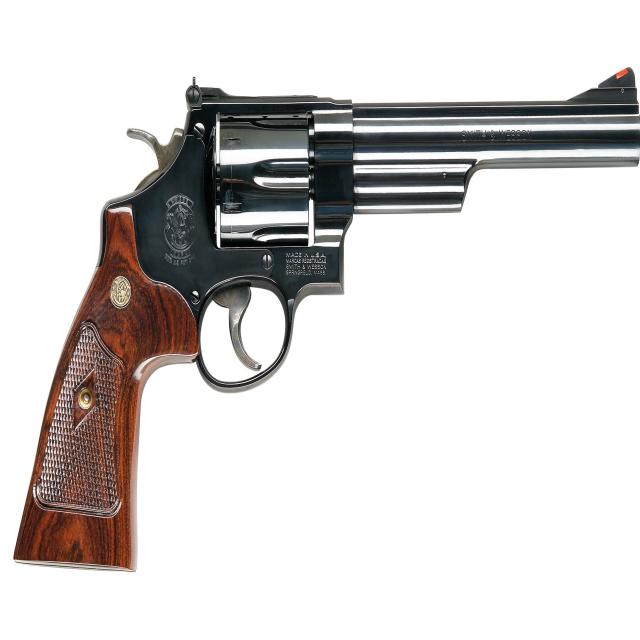Weapon: (15, 68, 640, 568)
